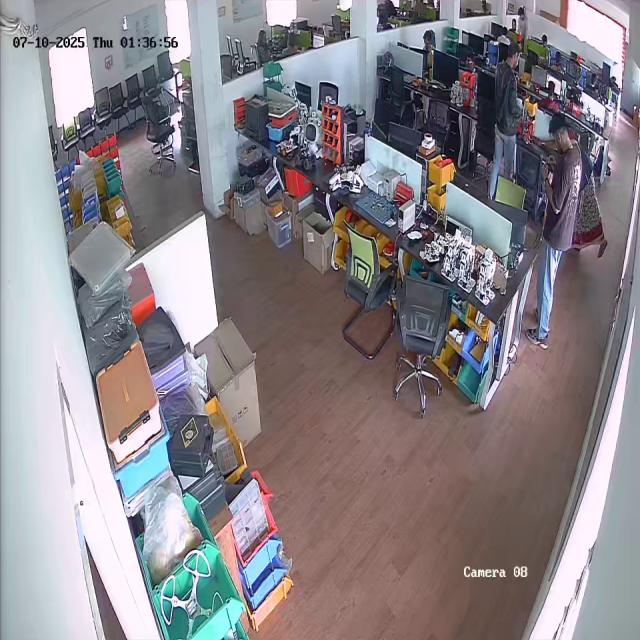person: (526, 112, 584, 348), (483, 42, 522, 197)
